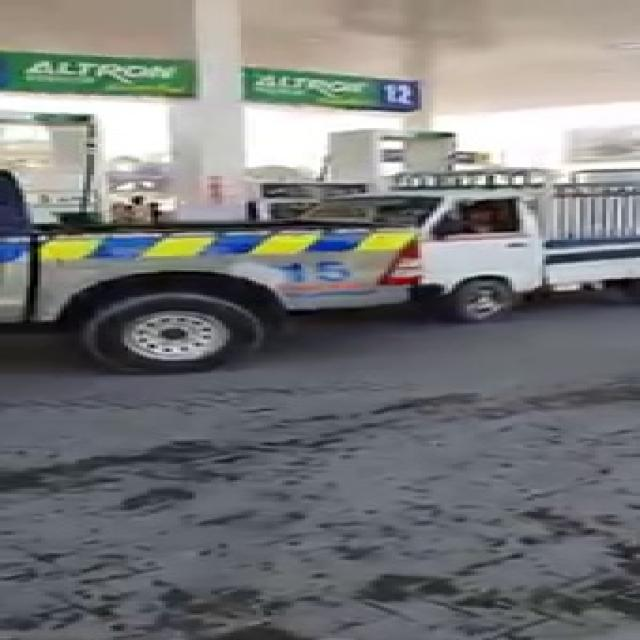police: (0, 176, 418, 361)
